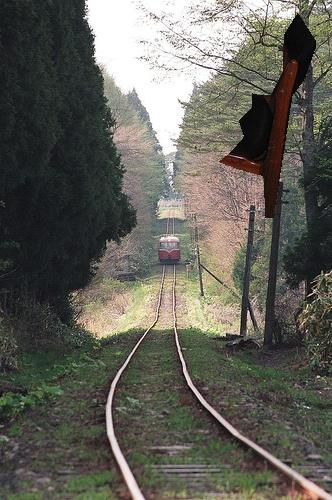tampered: (220, 14, 316, 218)
